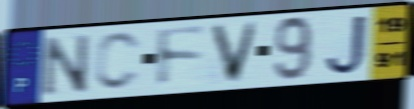9: (271, 14, 315, 84)
C: (92, 30, 144, 93)
F: (155, 25, 210, 91)
J: (323, 13, 370, 78)
N: (41, 31, 92, 98)
V: (208, 19, 263, 86)
